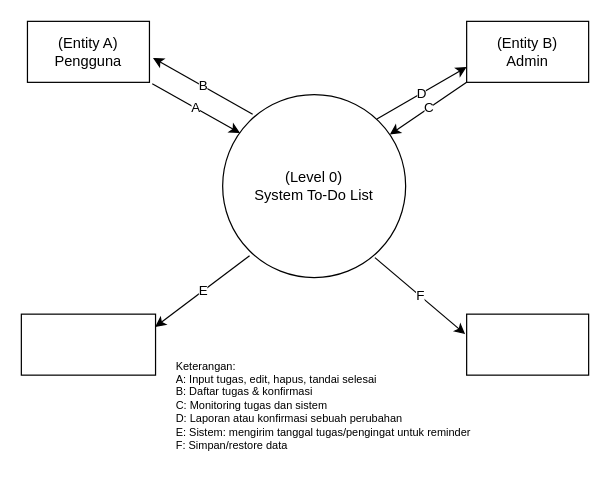
Image size: 610x482. Some labels were removed from this diagram. Each missing label, with the centre of its shape:
"(Entity C) Kalender/Reminder" goes at (x=88, y=344).
"(Entity D) System Backup" goes at (x=527, y=344).
